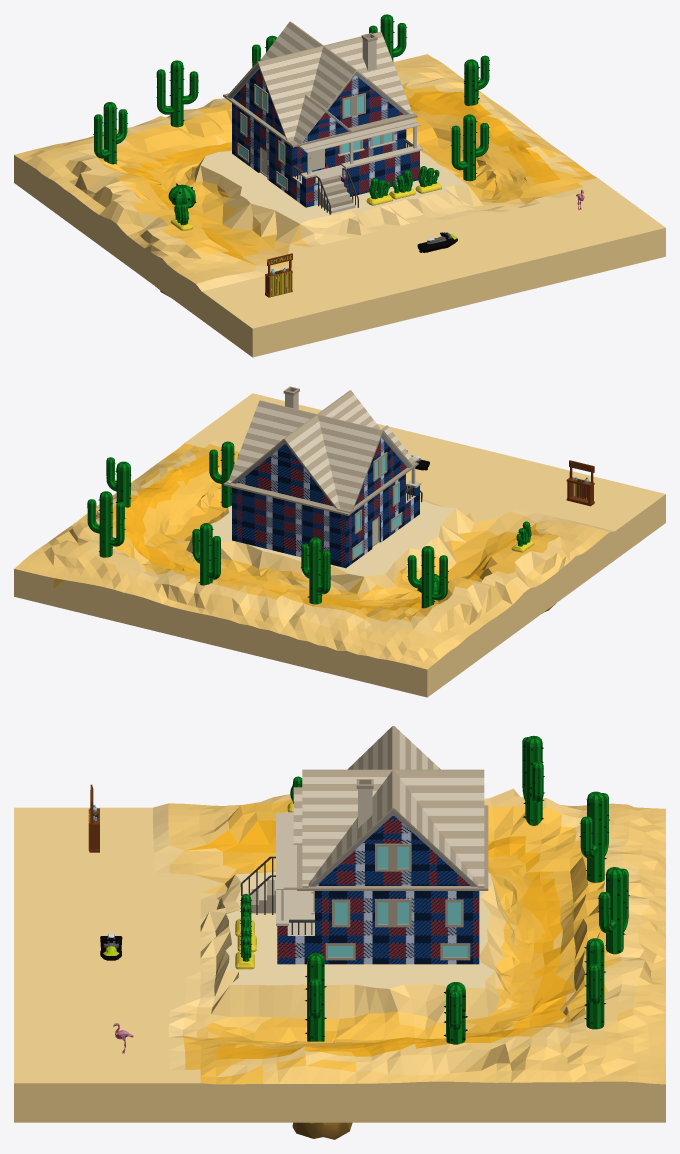
3 renders of one model, top to bottom at view 1: azimuth 30°, elevation 25°; view 2: azimuth 150°, elevation 25°; view 3: azimuth 270°, elevation 25°, orthographic. The views are drawn at different scales.
Visible parts, largest first — view 1: Cube.001, Cube.171, Cylinder.044, Cylinder.037, Cylinder.045, Cylinder.038, OBJRANDOM_LEMONADE_STAND, Cylinder.042, Cylinder.041, Cylinder.039, Sphere.023; view 2: Cube.001, Cube.171, Cylinder.042, Cylinder.045, Cylinder.044, Cylinder.043, Cylinder.037, OBJRANDOM_LEMONADE_STAND, Cylinder.038; view 3: Cube.001, Cube.171, Cylinder.043, Cylinder.044, Cylinder.045, Cylinder.042, Cylinder.037, Cylinder.038, UNDERGROUND_T_REX_BONES, OBJRANDOM_LEMONADE_STAND, Cylinder.041.
Part boxes in pixels (x1,y1,x2,y2): Cube.001: (14,54,665,357); Cube.171: (223,21,422,214); Cylinder.044: (156,60,198,127); Cylinder.037: (451,114,489,181); Cylinder.045: (93,102,127,164); Cylinder.038: (464,55,489,105); OBJRANDOM_LEMONADE_STAND: (265,253,292,297); Cylinder.042: (369,14,406,61); Cylinder.041: (415,166,441,193); Cylinder.039: (366,178,392,205); Sphere.023: (168,183,196,208); Cube.001: (14,393,665,697); Cube.171: (223,386,422,568); Cylinder.042: (87,491,125,557); Cylinder.045: (407,546,448,608); Cylinder.044: (301,537,330,604); Cylinder.043: (192,523,221,585); Cylinder.037: (209,441,238,507); OBJRANDOM_LEMONADE_STAND: (566,460,594,506); Cylinder.038: (106,457,131,507); Cube.001: (14,788,665,1122); Cube.171: (240,726,488,964); Cylinder.043: (597,867,629,954); Cylinder.044: (579,791,609,882); Cylinder.045: (522,736,544,825); Cylinder.042: (584,938,605,1029); Cylinder.037: (305,953,326,1041); Cylinder.038: (444,982,467,1044); UNDERGROUND_T_REX_BONES: (292,1122,352,1139); OBJRANDOM_LEMONADE_STAND: (88,784,99,852); Cylinder.041: (235,926,254,969).
Bounding box in the file's own units: 4002 × 1740 × 4001.
30 materials, 3 textured.
